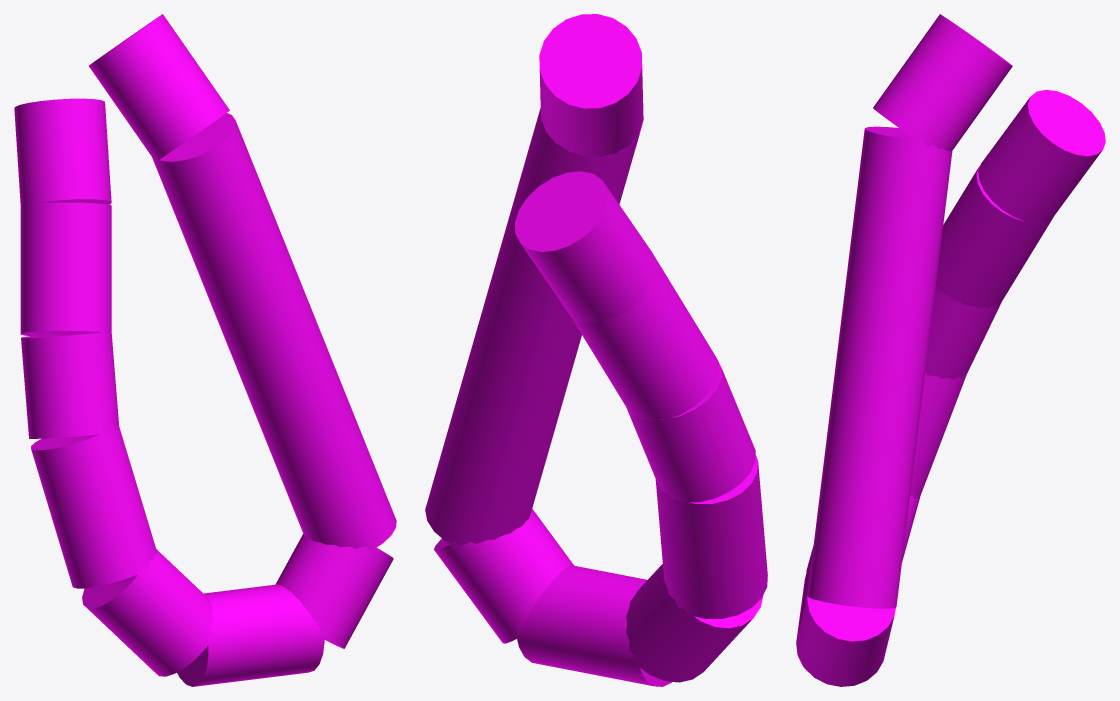
3 renders of one model, left to right at view 1: azimuth 30°, elevation 25°; view 2: azimuth 150°, elevation 25°; view 3: azimuth 270°, elevation 25°, orthographic. The views are drawn at different scales.
Visible parts, largest first — view 1: Cylinder(Clone) (×9); view 2: Cylinder(Clone) (×9); view 3: Cylinder(Clone) (×7).
Part boxes in pixels (x1,y1,x2,y2): Cylinder(Clone) (×9): [14, 14, 396, 686]; Cylinder(Clone) (×9): [425, 14, 767, 686]; Cylinder(Clone) (×7): [796, 14, 1105, 686].
Size of the model in its own units: 0.0401 by 0.0762 by 0.0344.
